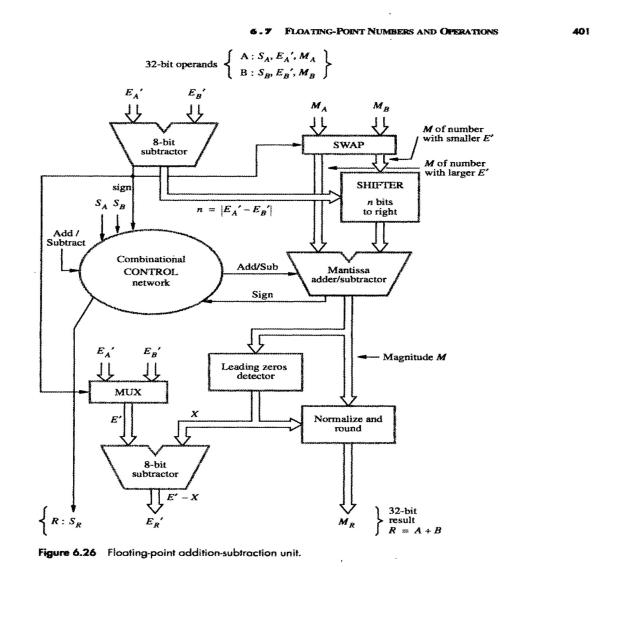diagram: (1, 41, 622, 583)
